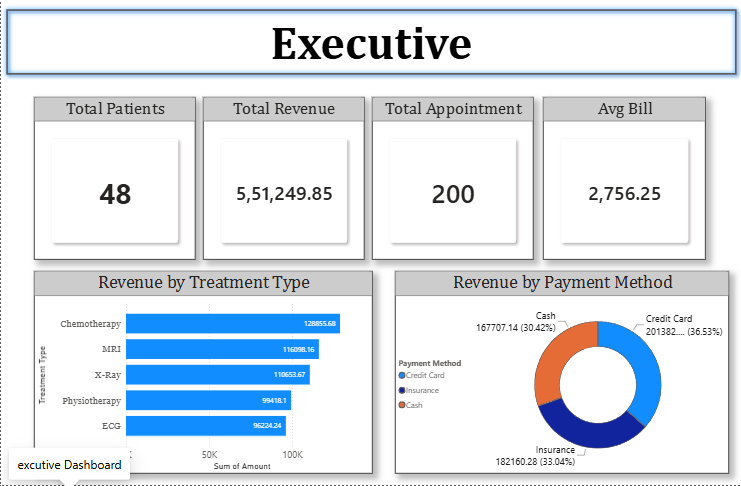

The dashboard page shown, as its layout file describes it:
{"tool":"powerbi","page":{"name":"excutive Dashboard","canvas":[1280,850],"ordinal":0},"visuals":[{"type":"cardVisual","title":"Total Patients","fields":{"Data":["Count(master_healthcare_dataset.patient_id_x)"]},"box":[56.2,179.9,279.2,281.1],"z":0},{"type":"cardVisual","title":"Total Revenue","fields":{"Data":["Sum(master_healthcare_dataset.amount)"]},"box":[348.6,179.9,279.2,281.1],"z":1000},{"type":"cardVisual","title":"Total Appointment","fields":{"Data":["Count(master_healthcare_dataset.appointment_id)"]},"box":[640.9,179.9,279.2,281.1],"z":2000},{"type":"cardVisual","title":"Avg Bill","fields":{"Data":["Avg(master_healthcare_dataset.amount)"]},"box":[937,179.9,281.1,281.1],"z":3000},{"type":"clusteredBarChart","title":"Revenue by Treatment Type","fields":{"Category":["master_healthcare_dataset.treatment_type"],"Y":["Sum(master_healthcare_dataset.amount)"]},"box":[56.2,479.8,584.7,350.5],"z":4000},{"type":"donutChart","title":"Revenue by Payment Method","fields":{"Category":["master_healthcare_dataset.payment_method"],"Y":["Sum(master_healthcare_dataset.amount)"]},"box":[680.3,479.8,577.2,350.5],"z":5000},{"type":"actionButton","box":[0,18.7,1280,131.2],"z":6000}]}

Visuals, with their boxes in screenshot pixels (x1, y1, x2, y2), scaled from the page's 1280x850 canvas onto the 741x486 screenshot:
"Total Patients" cardVisual: select_region(33, 103, 194, 264)
"Total Revenue" cardVisual: select_region(202, 103, 363, 264)
"Total Appointment" cardVisual: select_region(371, 103, 533, 264)
"Avg Bill" cardVisual: select_region(542, 103, 705, 264)
"Revenue by Treatment Type" clusteredBarChart: select_region(33, 274, 371, 475)
"Revenue by Payment Method" donutChart: select_region(394, 274, 728, 475)
actionButton: select_region(0, 11, 740, 86)
